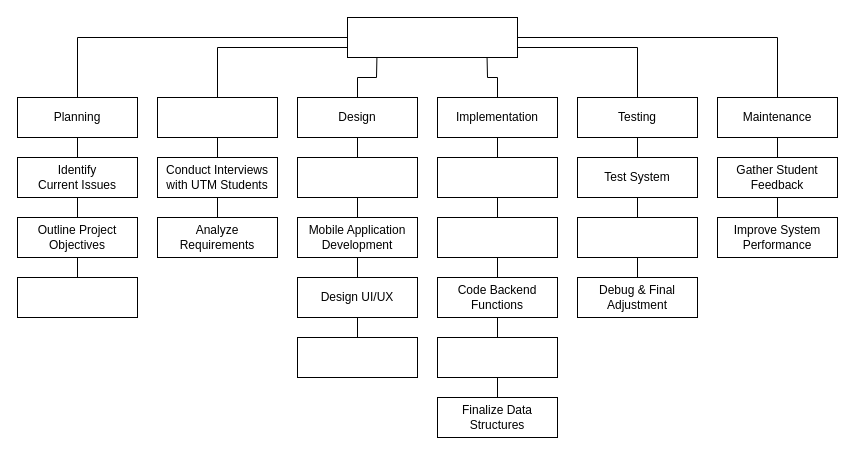
This 855x455 diagram has some shape labels left out. Each missing label, with the centre of its shape:
"Analysis" belongs at (x=217, y=117).
"Code Frontend Interfaces" belongs at (x=497, y=237).
"Create Database Schema" belongs at (x=357, y=357).
"Create System Architecture" belongs at (x=357, y=177).
"Define Project Scope" belongs at (x=77, y=297).
"Develop System Prototype" belongs at (x=497, y=177).
"Implement Database Tables" belongs at (x=497, y=357).
"User Acceptance Testing (UAT)" belongs at (x=637, y=237).
"UTM TRANSPORT APP" belongs at (x=432, y=37).
